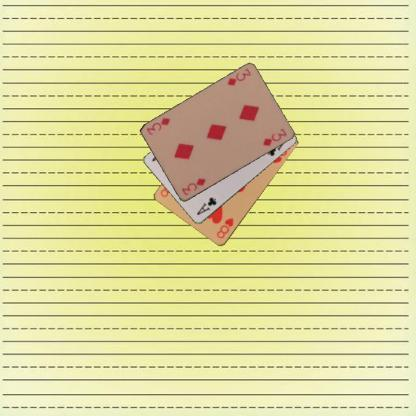3d: (179, 176, 208, 197), (225, 66, 252, 87)
8h: (214, 215, 235, 240)
Ac: (194, 194, 218, 216)
